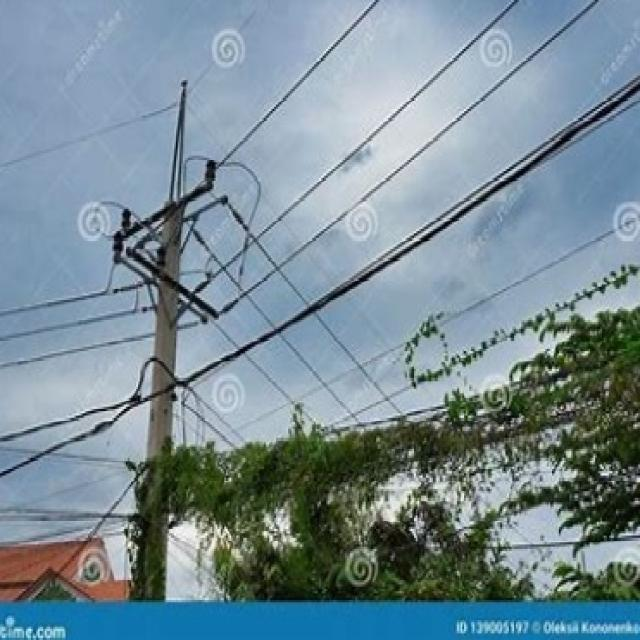critical vegetation: (136, 362, 640, 570)
